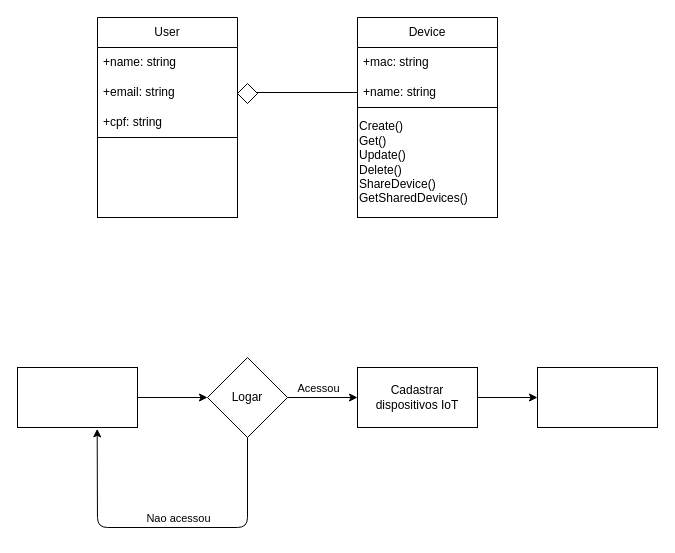
This 675x553 diagram has some shape labels left out. The centre of each missing label's shape, as x and y in pixels:
"Compartilhar com outros usuarios" goes at pixel 597 397.
"Create() Get() Update() Delete()" goes at pixel 167 177.
"Criar Usuario" goes at pixel 77 397.
